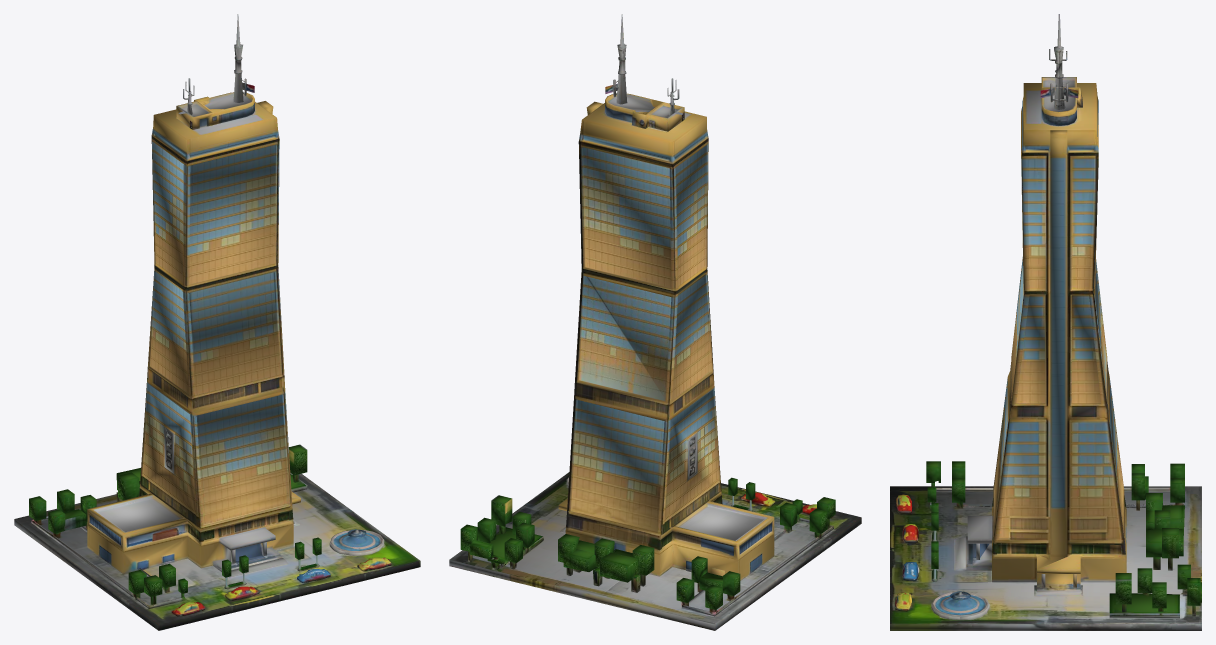
3 renders of one model, left to right at view 1: azimuth 30°, elevation 25°; view 2: azimuth 150°, elevation 25°; view 3: azimuth 270°, elevation 25°, orthographic. The views are drawn at different scales.
Parts seen in each view (by area): view 1: tripo_node_588ab291-3fb5-4d3e-9a23-ab884160e945; view 2: tripo_node_588ab291-3fb5-4d3e-9a23-ab884160e945; view 3: tripo_node_588ab291-3fb5-4d3e-9a23-ab884160e945.
Part boxes in pixels (bbox=[...]): tripo_node_588ab291-3fb5-4d3e-9a23-ab884160e945: bbox=[14, 14, 420, 630]; tripo_node_588ab291-3fb5-4d3e-9a23-ab884160e945: bbox=[449, 14, 861, 630]; tripo_node_588ab291-3fb5-4d3e-9a23-ab884160e945: bbox=[890, 14, 1201, 630].
Bounding box in the file's own units: 0.5254 × 0.998 × 0.502.
1 material, 1 textured.
